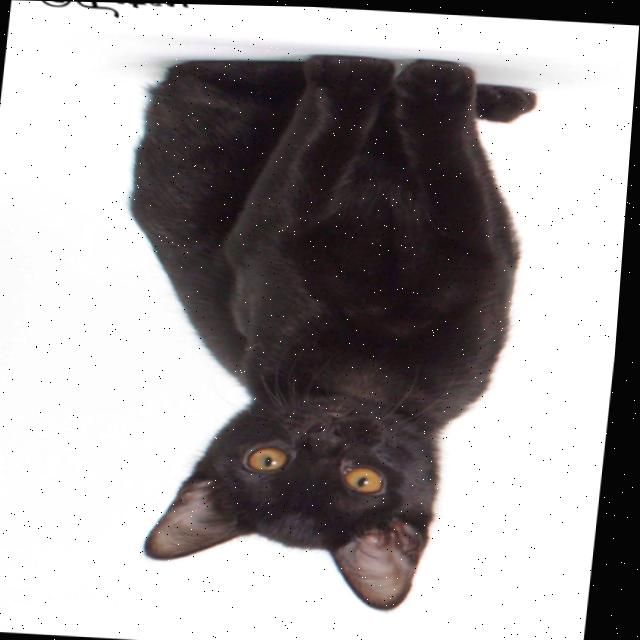Bombay: (89, 39, 547, 620)
